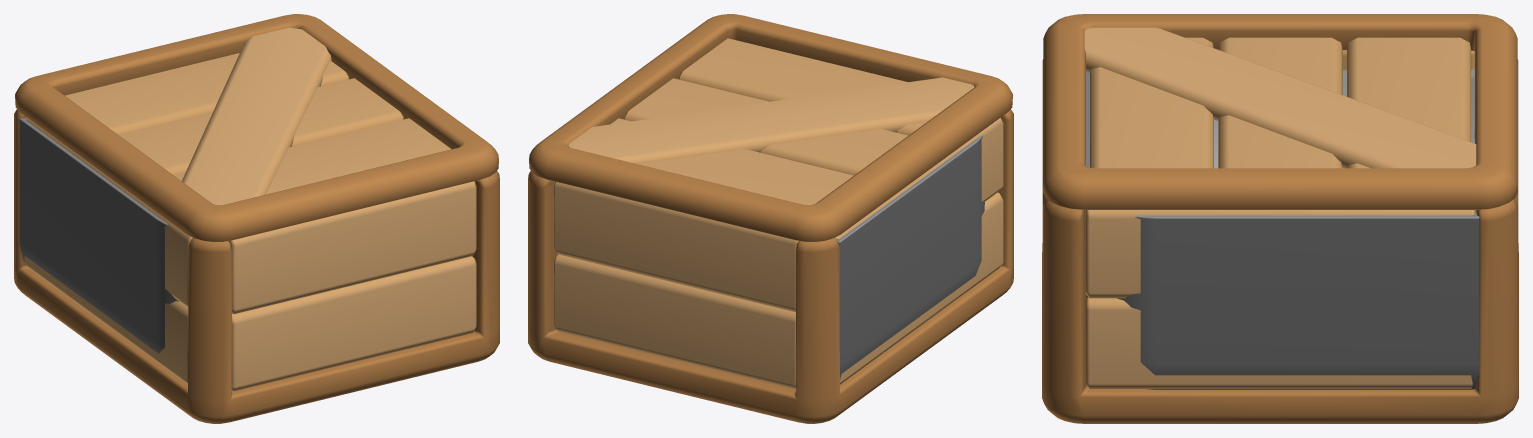
File: BufferCell.fbx
3 views of the same model, side by side, from view 1: azimuth 30°, elevation 25°; view 2: azimuth 150°, elevation 25°; view 3: azimuth 270°, elevation 25° (orthographic). The views are drawn at different scales.
Visible parts, largest first — view 1: HammerCase, CoinStak_Small; view 2: HammerCase, CoinStak_Small; view 3: HammerCase, CoinStak_Small.
Boxes of the visible parts, <box> form: HammerCase: <box>14,14,499,423</box>; CoinStak_Small: <box>19,118,178,353</box>; HammerCase: <box>528,14,1013,423</box>; CoinStak_Small: <box>557,135,984,379</box>; HammerCase: <box>1042,14,1518,423</box>; CoinStak_Small: <box>1084,69,1479,389</box>.
Size of the model in its own units: 1.29 by 0.8389 by 1.46.
2 materials, 2 textured.
